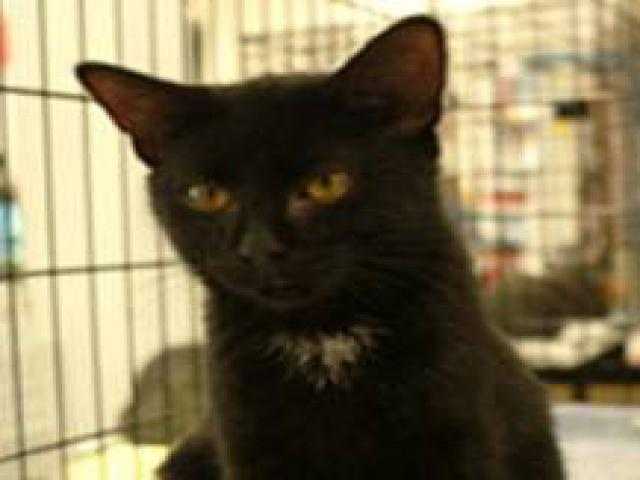cat: (63, 1, 600, 479)
